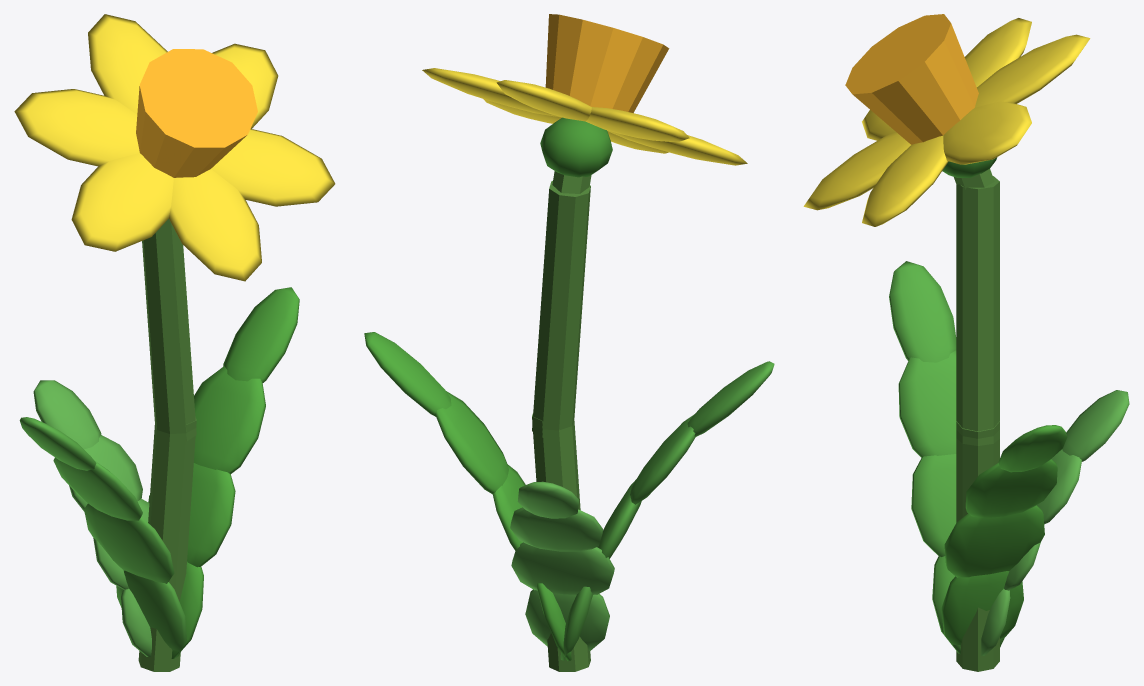
Rendered from Planta_Daffodil.fbx.
The picture shows the model from 3 angles, left to right: view 1: azimuth 30°, elevation 25°; view 2: azimuth 150°, elevation 25°; view 3: azimuth 270°, elevation 25°; orthographic projection. The views are drawn at different scales.
Parts seen in each view (by area): view 1: Corpo_Daffodil, Produto_Daffodil; view 2: Corpo_Daffodil, Produto_Daffodil; view 3: Corpo_Daffodil, Produto_Daffodil.
Boxes of the visible parts, x1,y1,x2,y2 form: Corpo_Daffodil: [19, 219, 299, 671]; Produto_Daffodil: [14, 14, 335, 281]; Corpo_Daffodil: [364, 117, 774, 671]; Produto_Daffodil: [422, 14, 747, 165]; Corpo_Daffodil: [889, 157, 1129, 671]; Produto_Daffodil: [803, 14, 1090, 226].
Bounding box in the file's own units: 1.27 × 2.27 × 1.05.
1 material, 1 textured.
